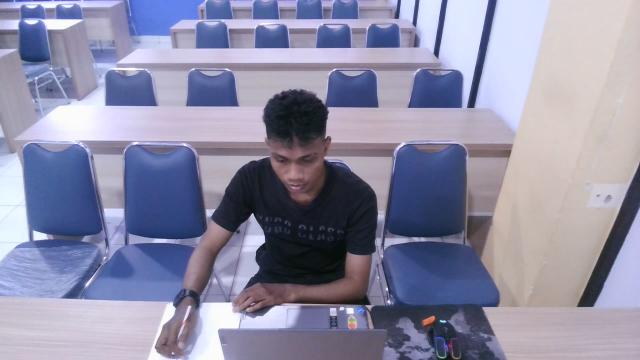Normal_Writing: (146, 79, 394, 360)
